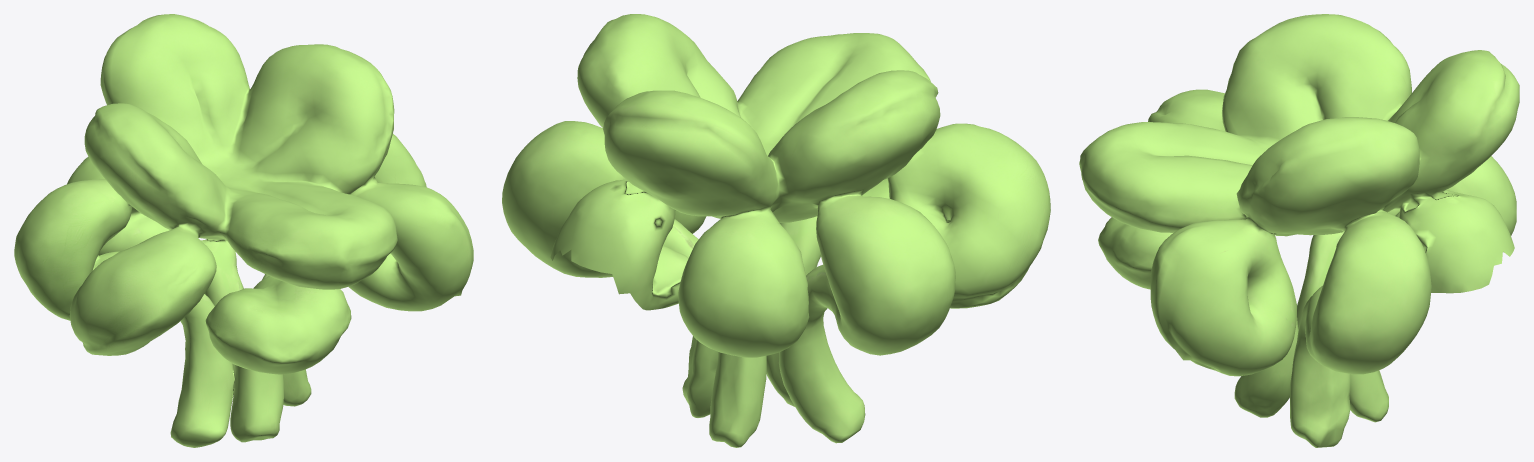
Rendered from clover_tuft.glb.
The picture shows the model from 3 angles, left to right: view 1: azimuth 30°, elevation 25°; view 2: azimuth 150°, elevation 25°; view 3: azimuth 270°, elevation 25°; orthographic projection. The views are drawn at different scales.
Size of the model in its own units: 1.91 by 1.58 by 1.74.
Materials: 1 (1 with a texture image).
